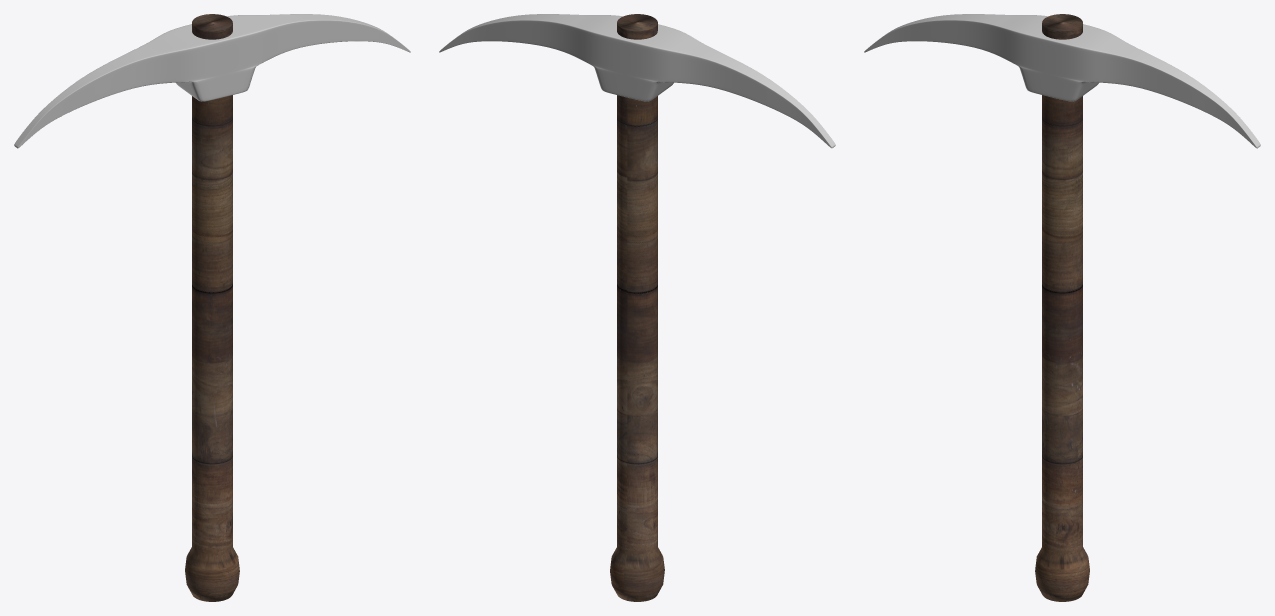
Rendered from Кирка.fbx.
The picture shows the model from 3 angles, left to right: view 1: azimuth 30°, elevation 25°; view 2: azimuth 150°, elevation 25°; view 3: azimuth 330°, elevation 25°; orthographic projection.
Parts seen in each view (by area): view 1: Cylinder, Plane; view 2: Cylinder, Plane; view 3: Cylinder, Plane.
Part boxes in pixels (x1,y1,x2,y2): Cylinder: [185, 14, 239, 601]; Plane: [14, 14, 410, 148]; Cylinder: [610, 14, 664, 601]; Plane: [439, 14, 835, 148]; Cylinder: [1035, 14, 1089, 601]; Plane: [864, 14, 1260, 148].
Bounding box in the file's own units: 600 × 832 × 72.81.
